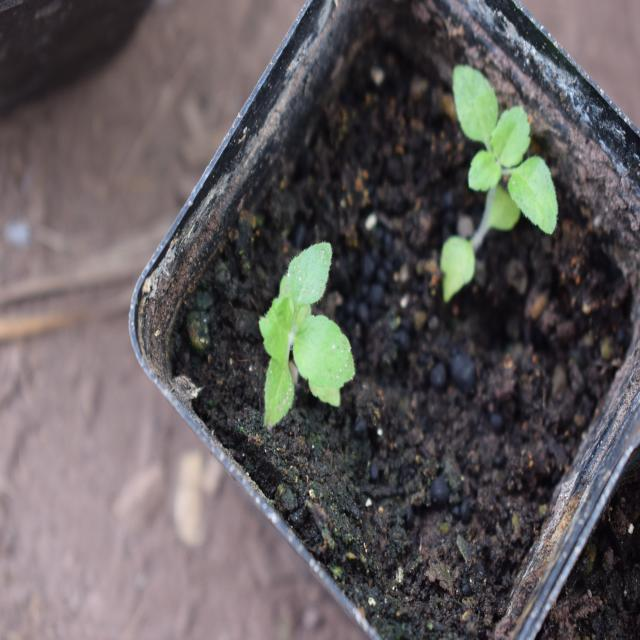billygoat_weed: (449, 71, 580, 259), (248, 230, 359, 427)
